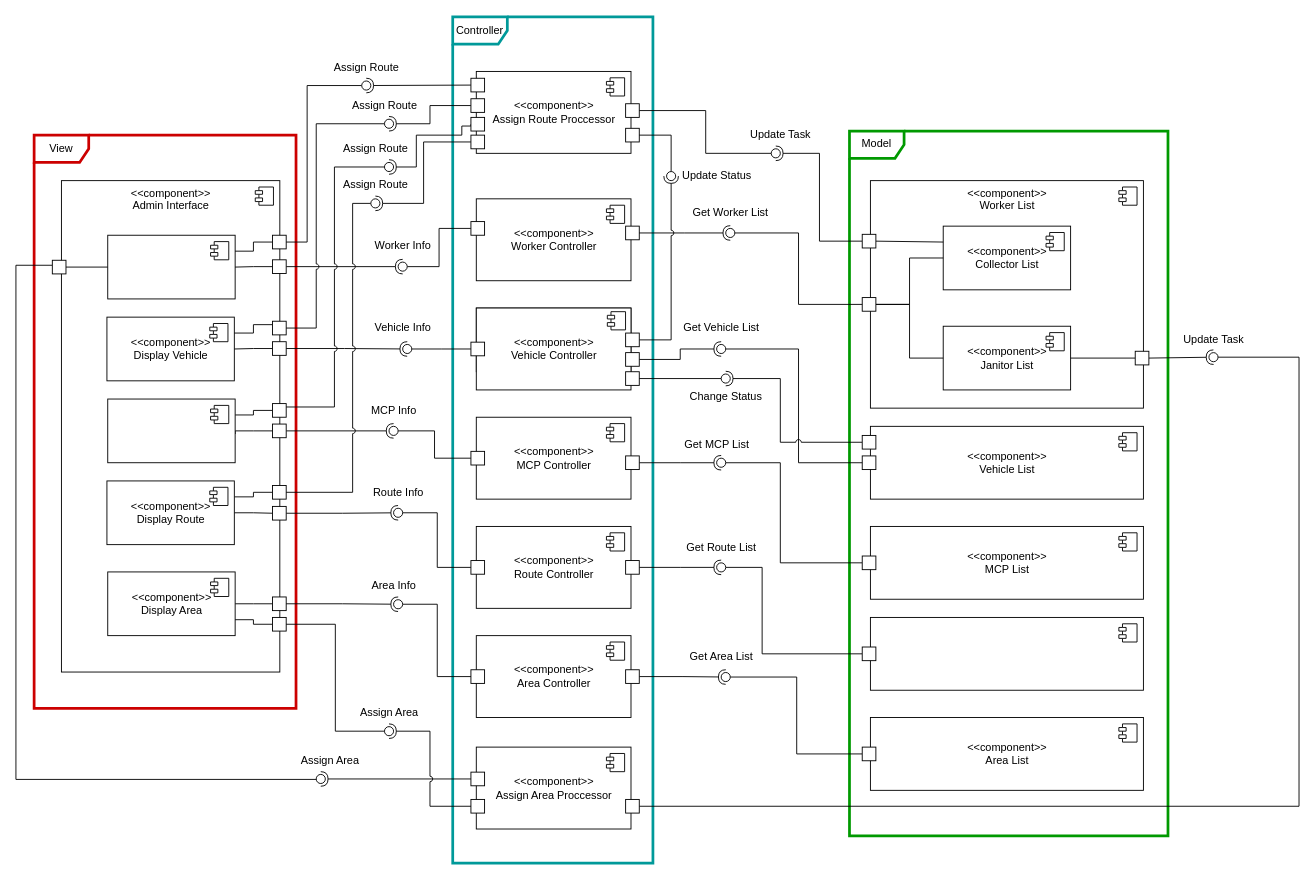
Image size: 1316x880. Some labels were removed from this diagram. Here are the shapes that lost their labels. From the top down, the centre of each, then its label:
At point (171, 266): "<<component>> Display Worker".
At point (171, 430): "<<component>> Display MCPMap".
At point (1006, 653): "<<component>> Route List".
